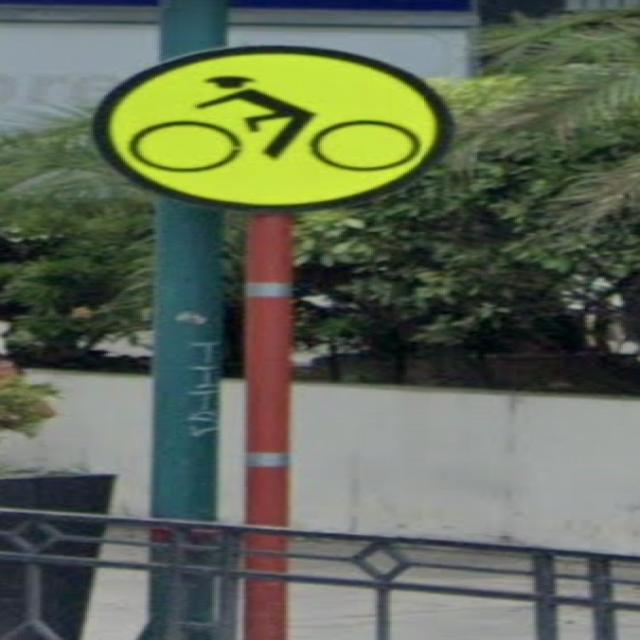bike lane: (100, 45, 449, 210)
